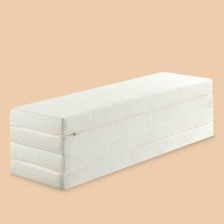foam_box: (5, 67, 219, 193)
